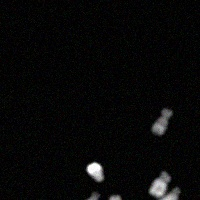chromosome: (148, 171, 171, 198), (151, 108, 172, 135), (87, 162, 105, 184), (150, 189, 181, 200), (82, 192, 101, 200), (98, 195, 124, 200)
